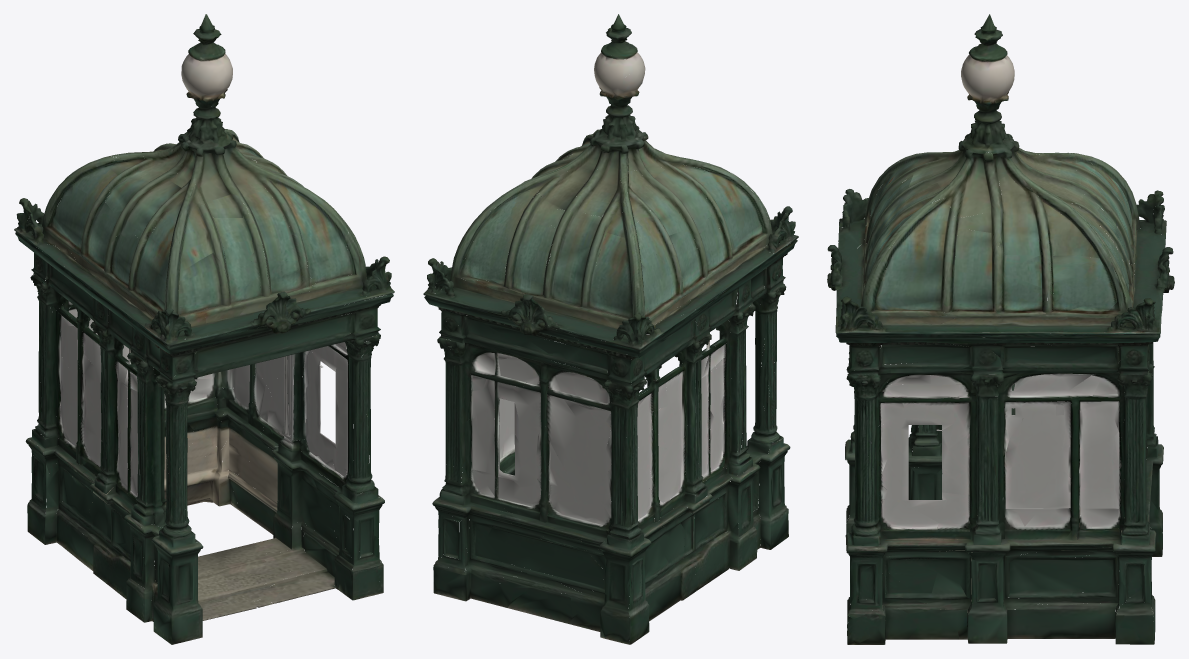
File: h_irt_kiosk.glb
3 renders of one model, left to right at view 1: azimuth 30°, elevation 25°; view 2: azimuth 150°, elevation 25°; view 3: azimuth 270°, elevation 25°, orthographic. The views are drawn at different scales.
Parts seen in each view (by area): view 1: tripo_node_62940f7f-0ca3-4fd1-be1f-4a39d4b5f3e2; view 2: tripo_node_62940f7f-0ca3-4fd1-be1f-4a39d4b5f3e2; view 3: tripo_node_62940f7f-0ca3-4fd1-be1f-4a39d4b5f3e2.
Part boxes in pixels (left/top/right/bottom): tripo_node_62940f7f-0ca3-4fd1-be1f-4a39d4b5f3e2: left=14, top=14, right=394, bottom=644; tripo_node_62940f7f-0ca3-4fd1-be1f-4a39d4b5f3e2: left=423, top=14, right=798, bottom=644; tripo_node_62940f7f-0ca3-4fd1-be1f-4a39d4b5f3e2: left=827, top=14, right=1174, bottom=644.
Bounding box in the file's own units: 0.4184 × 0.9785 × 0.5356.
Materials: 1 (1 with a texture image).
